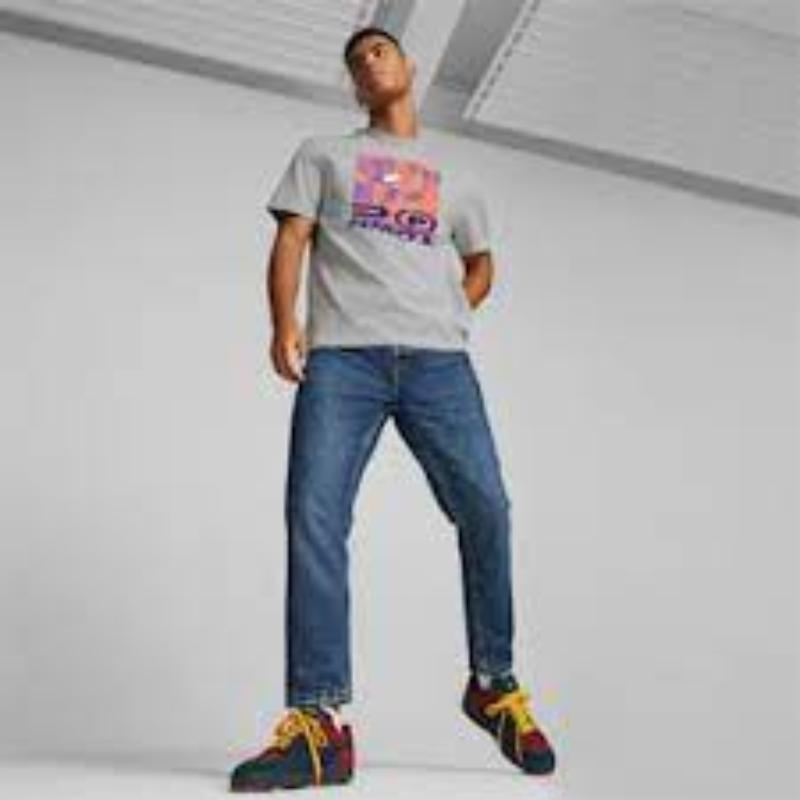Jeans: (271, 356, 520, 716)
Tshirt: (247, 136, 502, 356)
